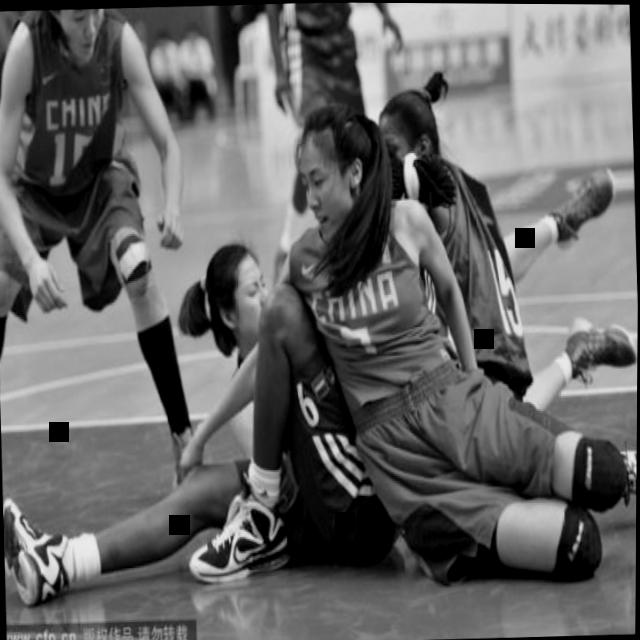Fall-Detected: (0, 206, 431, 603)
